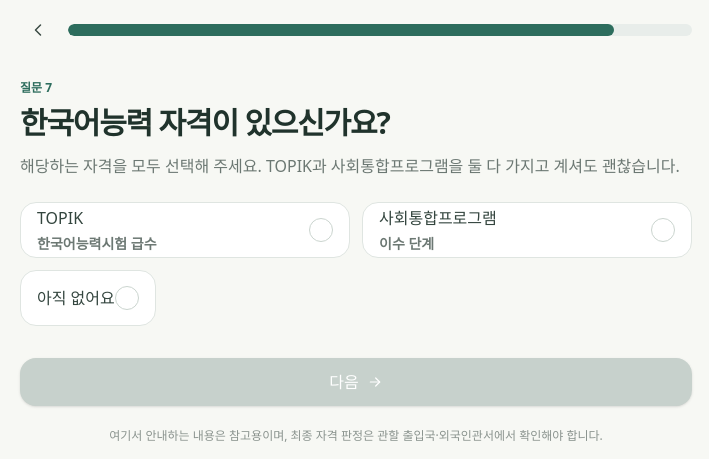
it: OnboardingForm › '아직 없어요'를 고르면 급수 없이도 다음으로 넘어간다
Step 1. Click the button "아직 없어요" → (88, 298), box [20, 270, 156, 326]
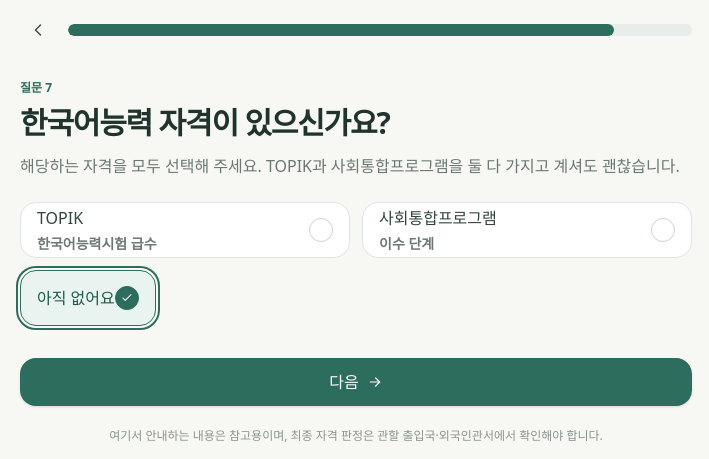
Now the button "다음" is enabled, box [20, 358, 692, 406]
